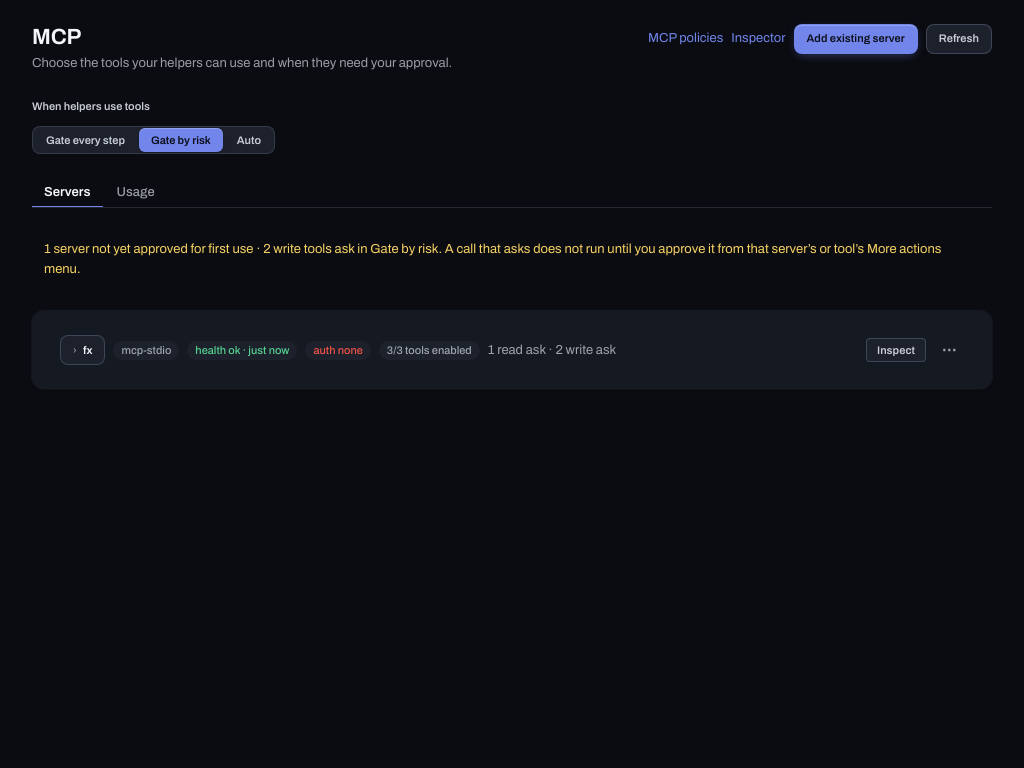
Scenario: MCP tools: Approve and Revoke are audited policy edits crew makes › a refused approval is said, not swallowed
This screenshot has width=1024, height=768.
Click the button with test id "mcp-server-toggle".
click(83, 350)  # box [60,335,106,365]
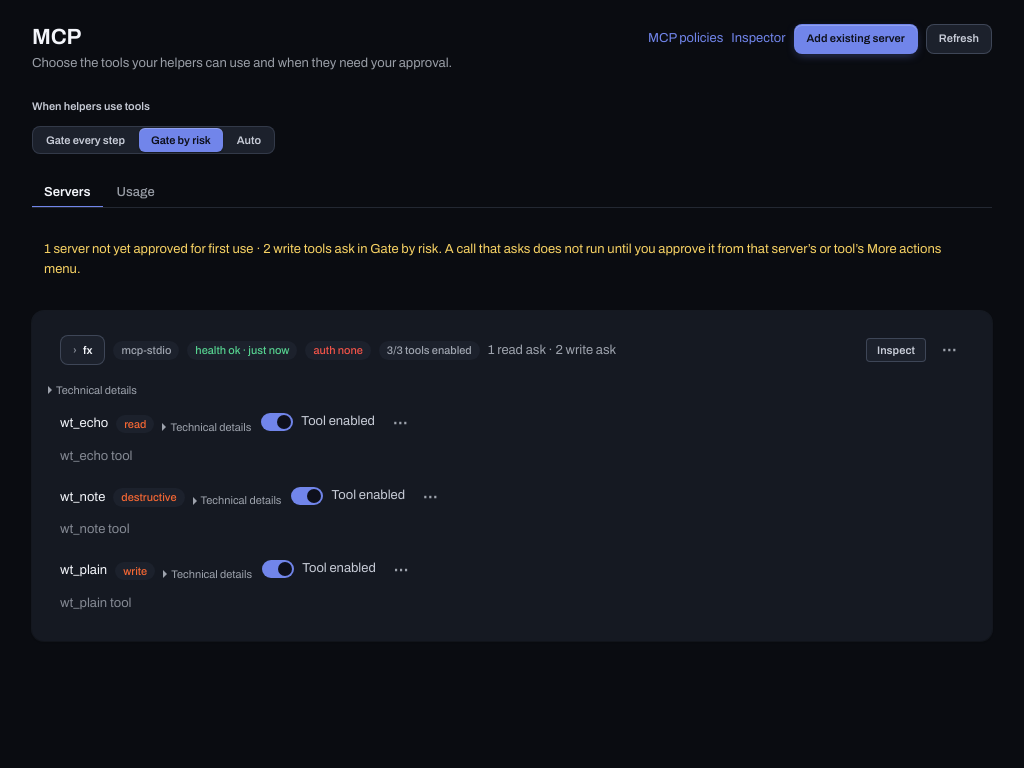
Click the button "⋯" in the row of "1 read ask · 2 write ask".
click(949, 350)  # box [934,335,964,365]
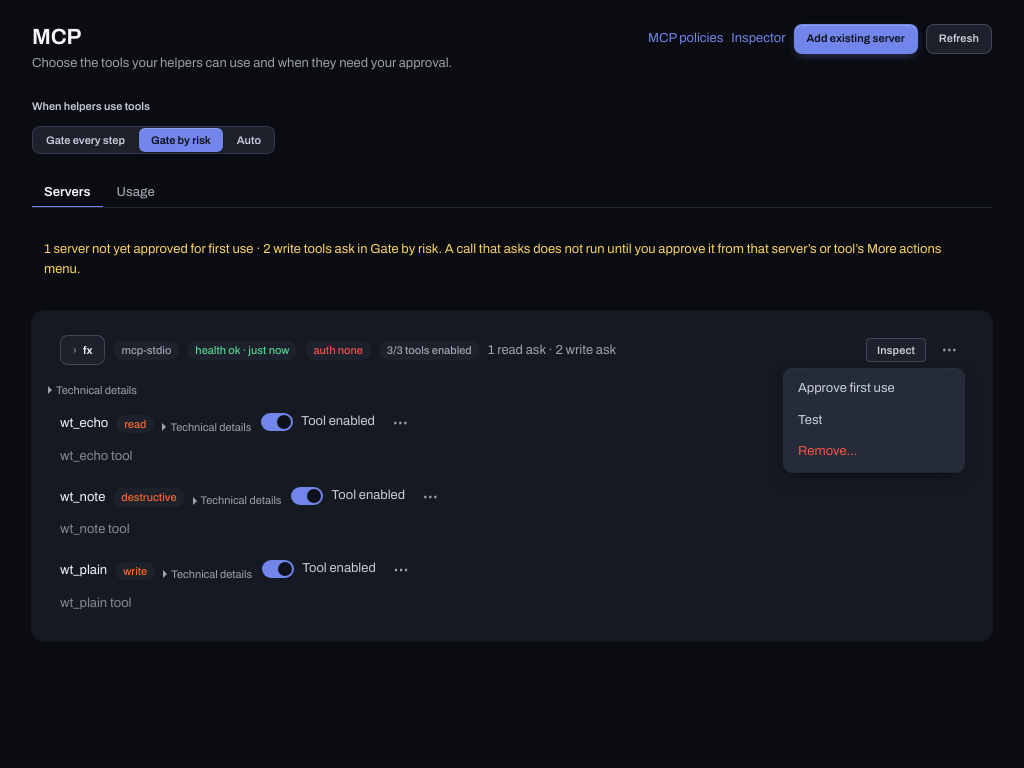
Click the menu item "Approve first use".
click(874, 389)  # box [788,373,960,405]
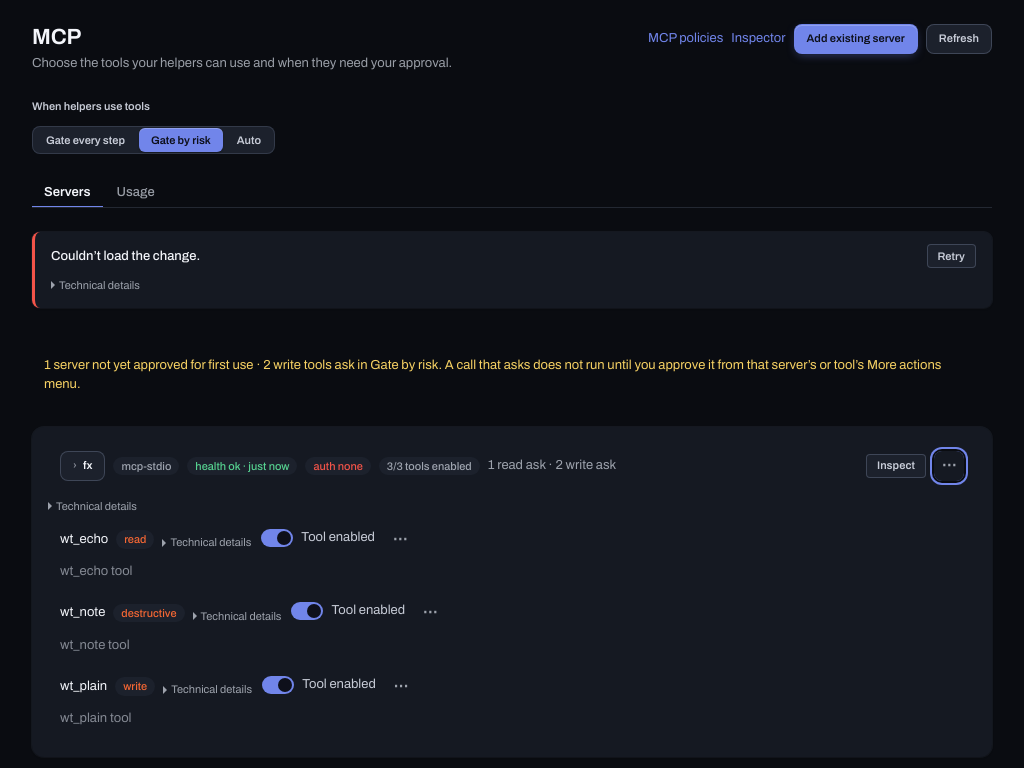
expect the element with test id "mcp-note" reads "Couldn’t load the change. Retry Technical details": met, box [32,232,992,324]
